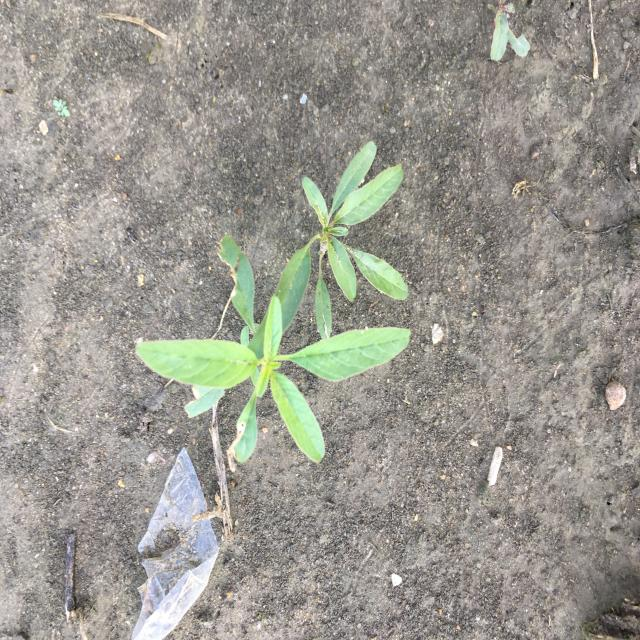Waterhemp: (133, 234, 412, 467), (244, 140, 409, 368), (487, 1, 533, 65)
